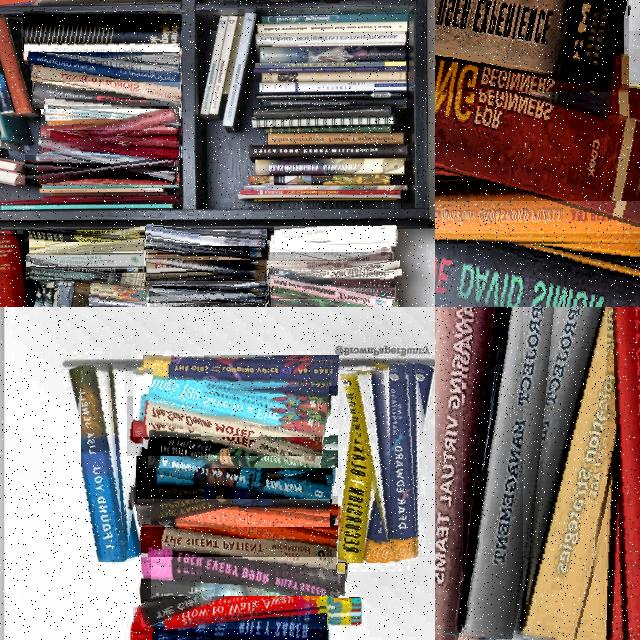Books: (523, 307, 635, 640), (464, 307, 568, 638), (435, 59, 640, 201), (435, 307, 496, 639), (435, 219, 640, 307), (435, 0, 629, 91), (141, 555, 331, 627), (134, 368, 329, 436), (435, 170, 640, 232), (137, 465, 330, 526), (128, 396, 322, 455), (151, 537, 346, 595), (137, 446, 333, 499), (610, 307, 640, 640), (338, 369, 388, 562), (82, 364, 125, 561), (154, 496, 350, 539), (148, 429, 345, 468), (142, 524, 337, 557), (133, 607, 327, 640), (145, 355, 339, 386), (42, 109, 178, 152), (24, 14, 181, 51), (165, 599, 361, 628), (390, 363, 418, 560), (32, 65, 180, 96), (26, 155, 176, 185), (30, 52, 180, 81), (39, 138, 163, 172), (271, 274, 393, 307), (32, 82, 181, 108), (146, 248, 266, 280), (270, 236, 390, 267), (26, 255, 136, 286), (50, 130, 179, 156), (269, 252, 392, 278), (273, 268, 394, 294), (268, 261, 398, 284), (44, 98, 181, 119), (48, 106, 169, 128), (0, 234, 35, 307), (149, 239, 268, 260), (146, 225, 265, 246), (29, 236, 146, 257), (30, 266, 146, 287), (274, 226, 396, 245), (30, 242, 143, 259), (277, 286, 368, 307), (150, 286, 268, 302), (28, 253, 144, 268), (24, 44, 180, 55), (147, 293, 263, 307), (151, 292, 252, 307), (91, 282, 148, 300), (148, 275, 240, 286), (23, 230, 145, 238), (268, 238, 365, 248), (89, 295, 146, 307), (147, 253, 235, 260), (33, 282, 53, 307), (272, 299, 331, 307), (59, 281, 71, 307)
